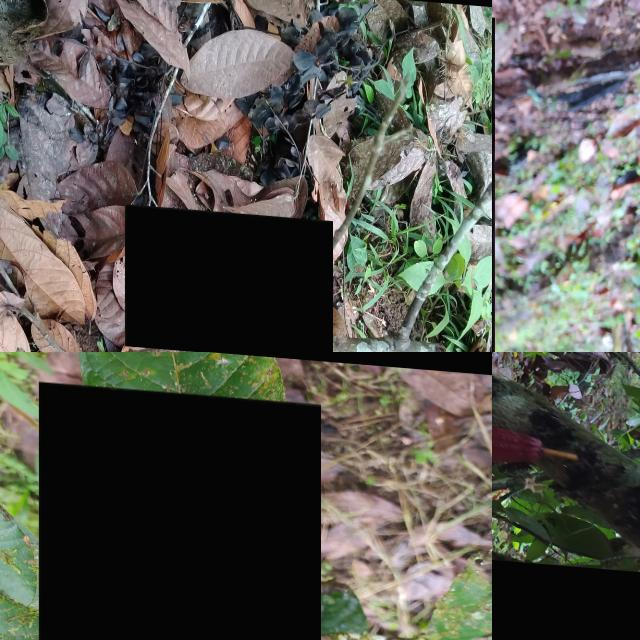Fitoftora: (39, 379, 321, 640), (492, 548, 640, 640)
Monilia: (125, 200, 333, 352)
Sana: (492, 419, 541, 464)
